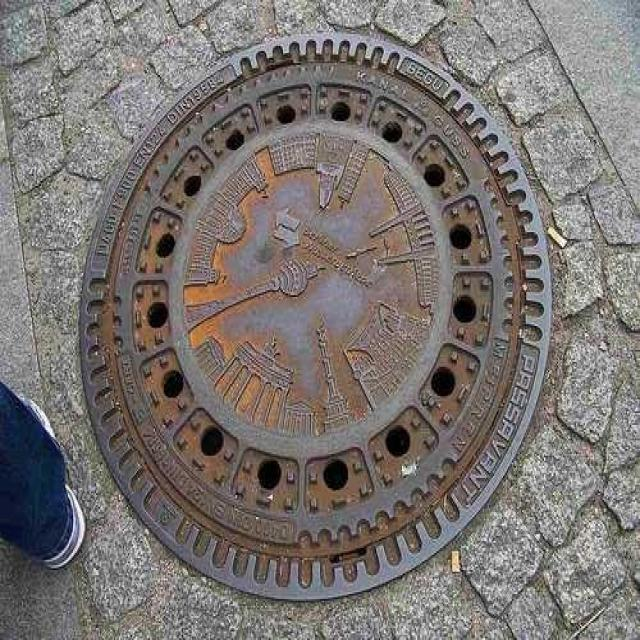manhole: (80, 33, 551, 599)
